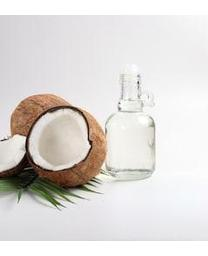coconut: (23, 104, 105, 189), (9, 90, 77, 155)
